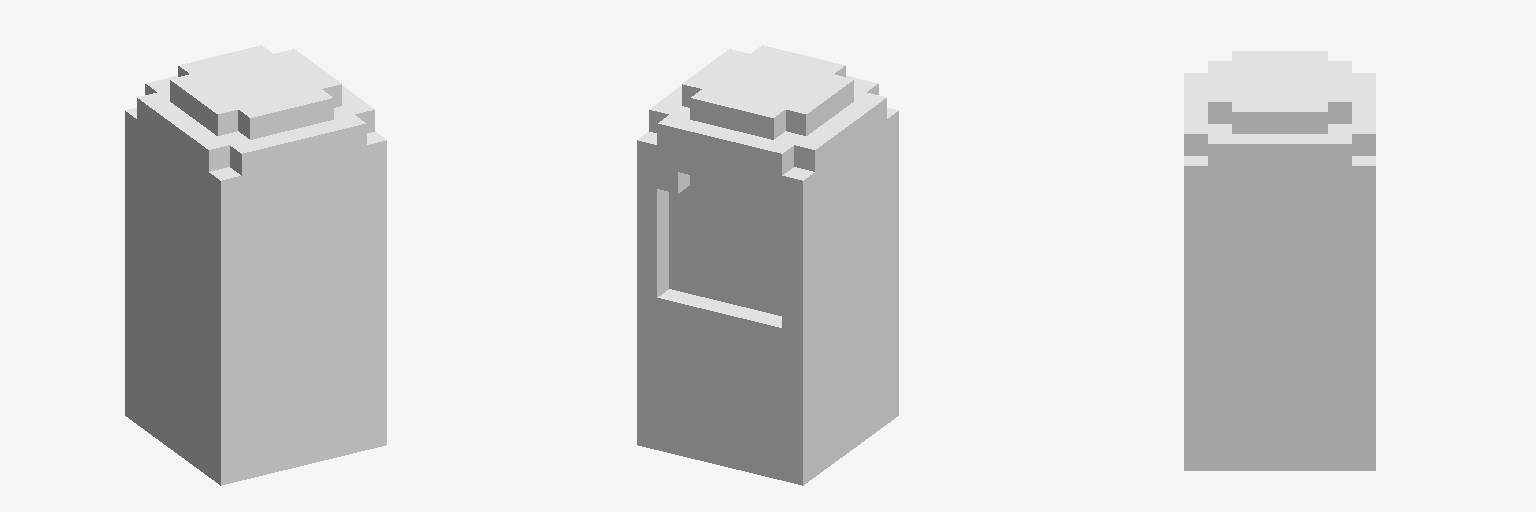
Rendered from Cave.obj.
3 views of the same model, side by side, from view 1: azimuth 30°, elevation 25°; view 2: azimuth 150°, elevation 25°; view 3: azimuth 270°, elevation 25° (orthographic).
Visible parts, largest first — view 1: object 1; view 2: object 1; view 3: object 1.
Boxes of the visible parts, x1,y1,x2,y2 form: object 1: [125, 45, 386, 485]; object 1: [637, 45, 898, 485]; object 1: [1184, 51, 1375, 470].
Size of the model in its own units: 0.8 by 1.6 by 0.8.